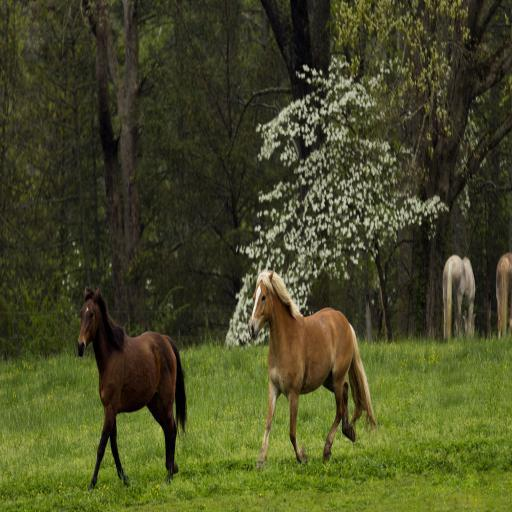horse: (247, 266, 376, 466), (76, 281, 188, 487), (443, 250, 477, 346), (496, 248, 512, 339)
